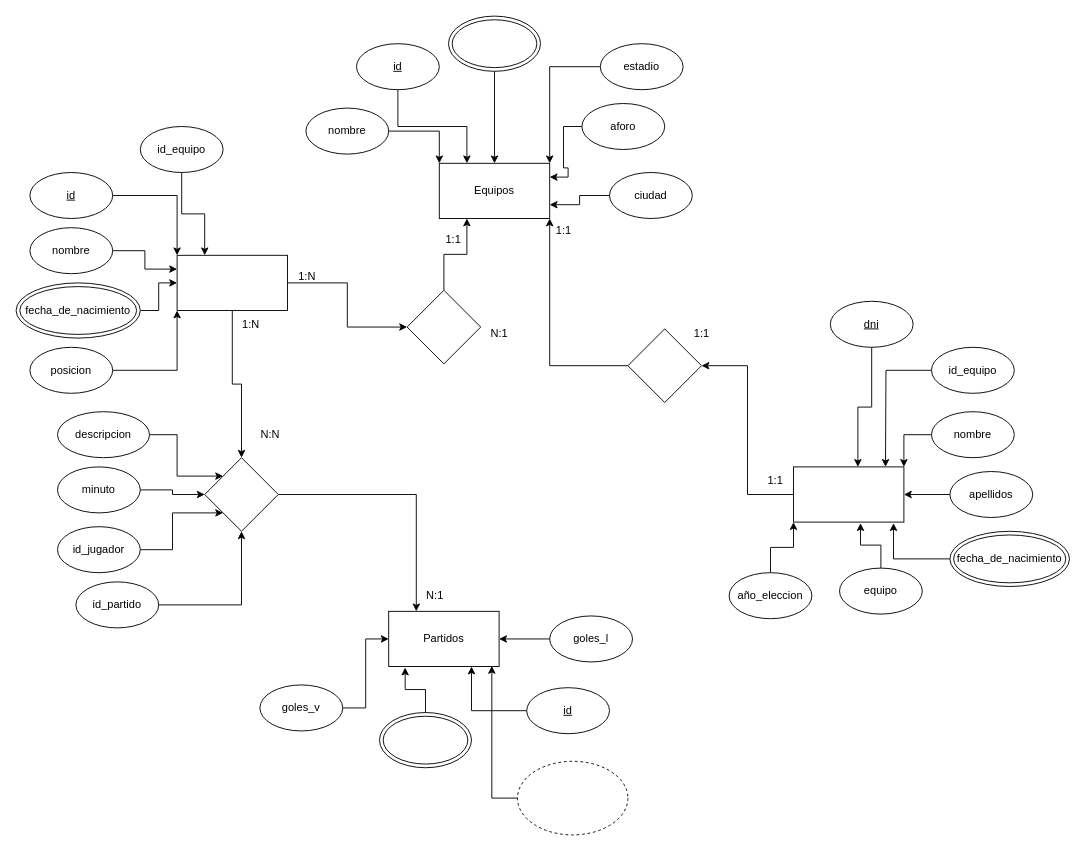
Some shapes in this 1086 by 851 pixel diagram are drawn without their labels. The box of each missing label's shape, as (x1, y1, x2, y2) in pixels:
dirige: (627, 328, 702, 402)
fecha: (379, 712, 472, 768)
fecha_fundacion: (448, 15, 540, 71)
goles_totales: (517, 760, 628, 835)
Jugadores: (176, 254, 288, 310)
Marcan: (204, 457, 278, 531)
Pertenece: (406, 289, 481, 364)
Presidentes: (793, 466, 904, 522)
